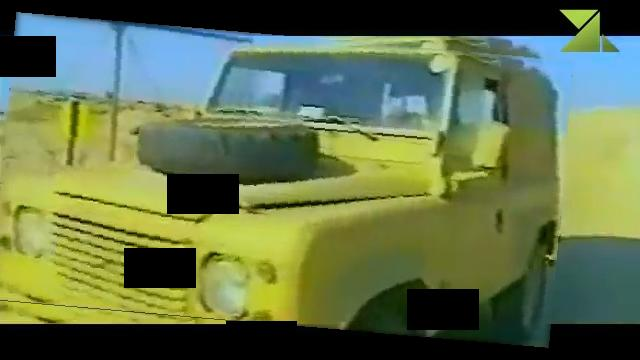MIL_HMMWV: (0, 24, 567, 336)
